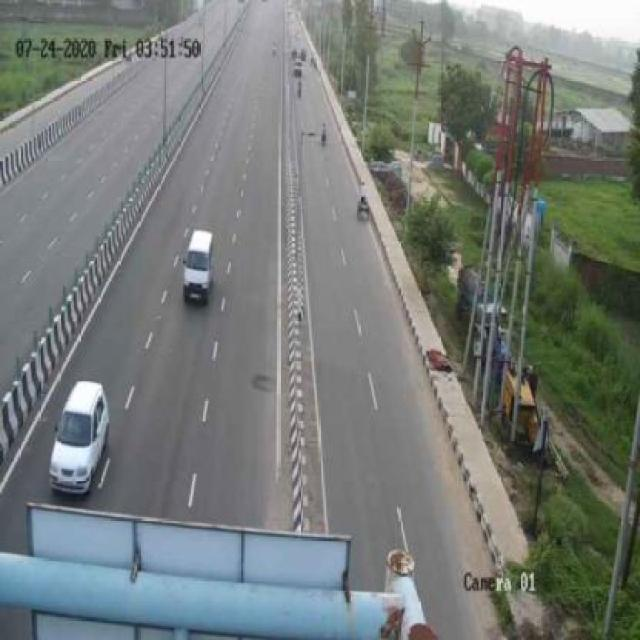car: (46, 377, 117, 497), (176, 227, 230, 316)
